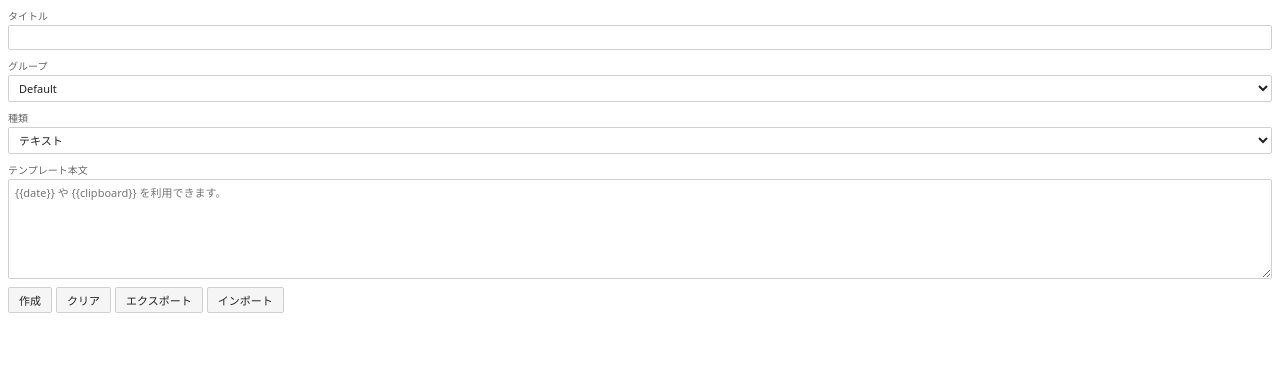
Scenario: TemplateEditor › new group name field › shows new group name input when group is 'new'
The image size is (1280, 380).
Select "+ 新規グループ" in the dropdown labelled "グループ" at (640,88), box [8, 75, 1272, 102]
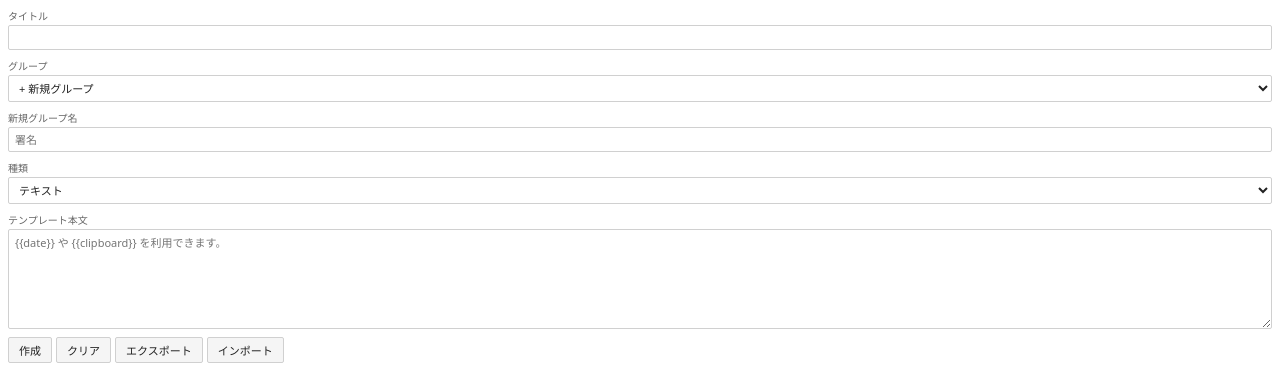
Now the field labelled "新規グループ名" is shown, box [8, 127, 1272, 152]
